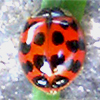Red: (18, 6, 85, 93)
